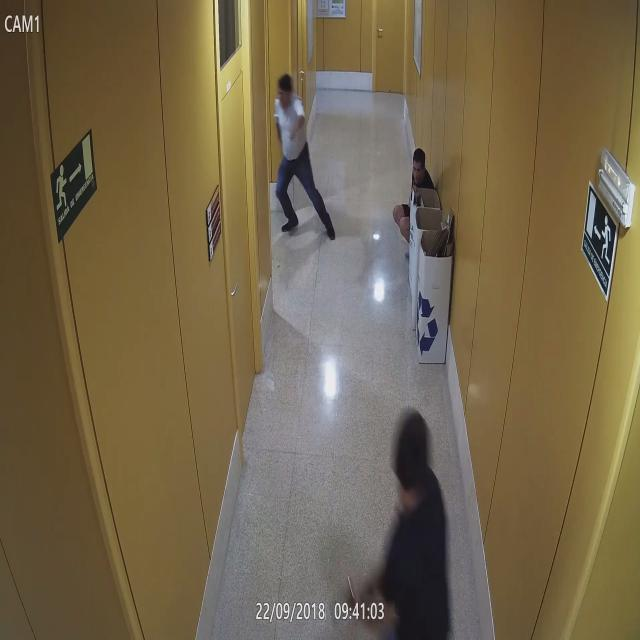Gun: (336, 560, 359, 604)
